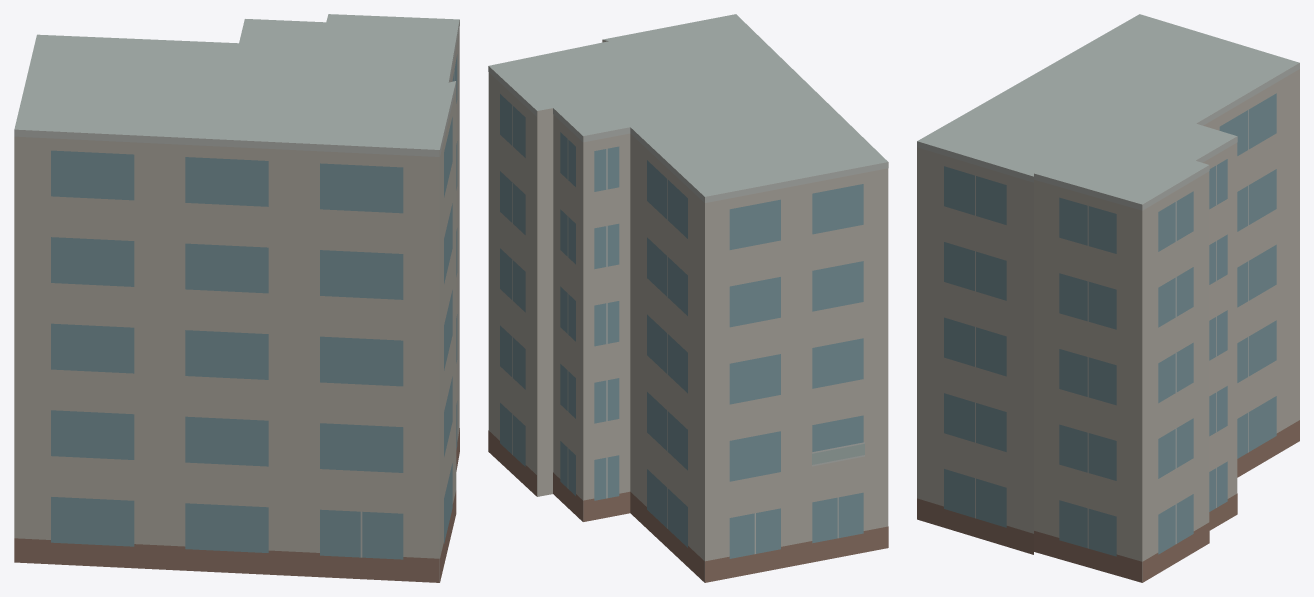
Rendered from survey-upis-33012245.glb.
The picture shows the model from 3 angles, left to right: view 1: azimuth 30°, elevation 25°; view 2: azimuth 150°, elevation 25°; view 3: azimuth 270°, elevation 25°; orthographic projection. The views are drawn at different scales.
Visible parts, largest first — view 1: survey-upis-33012245.tmp; view 2: survey-upis-33012245.tmp; view 3: survey-upis-33012245.tmp.
Boxes of the visible parts, x1,y1,x2,y2 form: survey-upis-33012245.tmp: (14, 14, 459, 582); survey-upis-33012245.tmp: (488, 14, 888, 582); survey-upis-33012245.tmp: (917, 14, 1299, 582).
Bounding box in the file's own units: 16.27 × 15.05 × 13.81.
